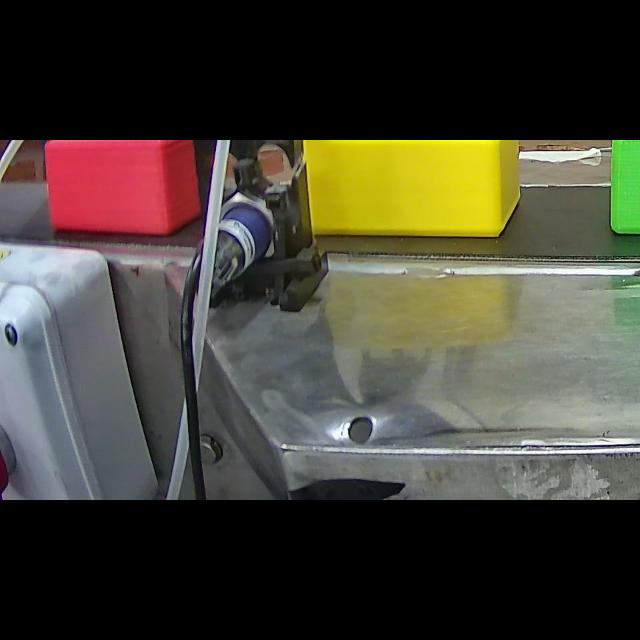greenBox: (610, 140, 640, 244)
redBox: (42, 140, 228, 240)
yellowBox: (302, 140, 528, 242)
